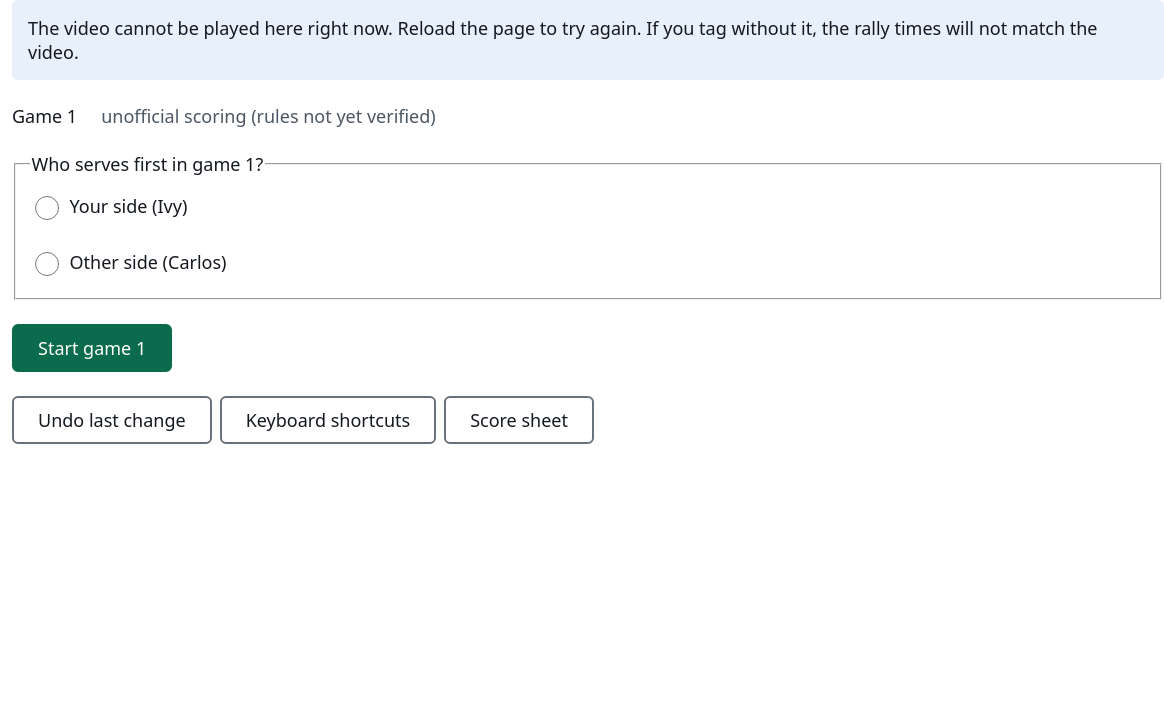
Test: BE-RV1-FE-01 (a): rules_unavailable on T-02 › "Start game 1" says scoring is not available yet and asks for no retry
Click the radio button labelled "Your side (Ivy)" at (46, 208), box [34, 196, 58, 220]
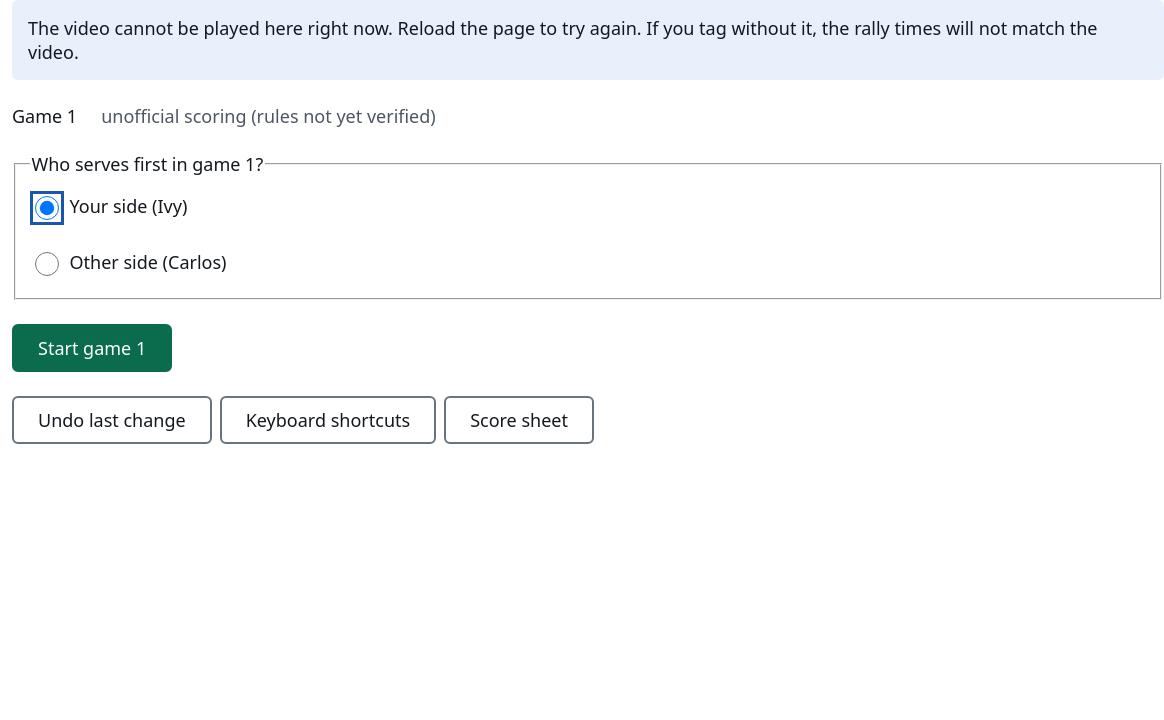
Click the button "Start game 1" at (92, 348), box [12, 324, 172, 372]
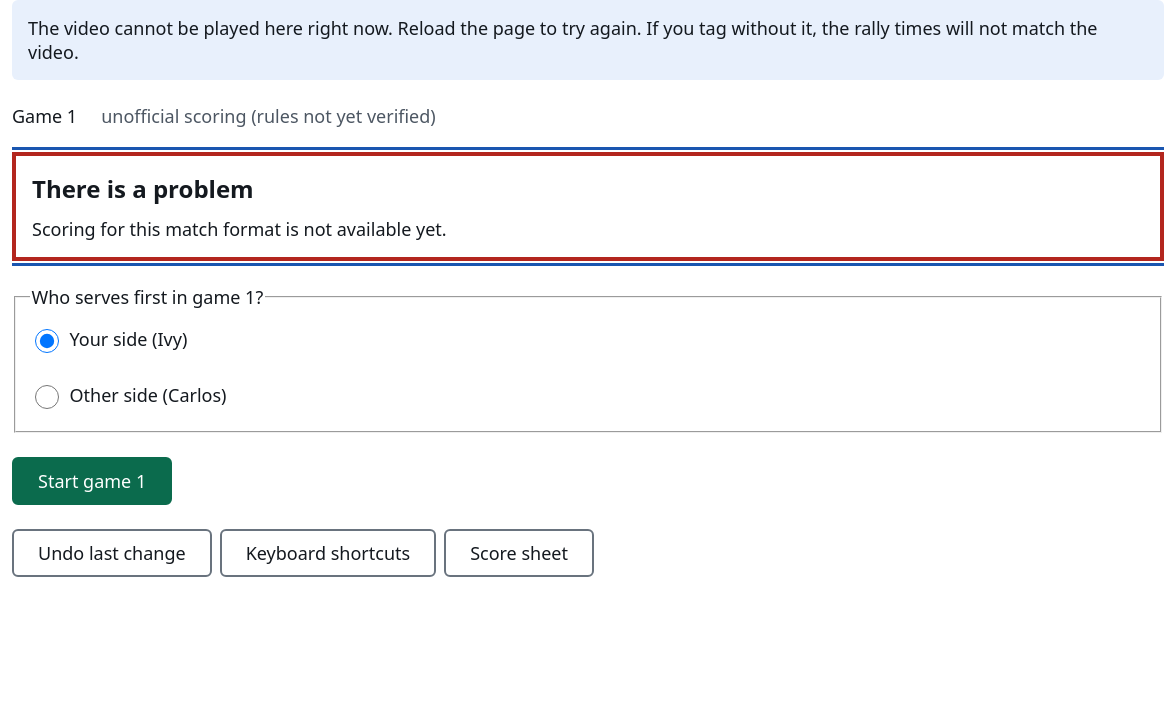
Check: the message does not show "try again", box [12, 152, 1163, 261]
Check: the message shows "Scoring for this match format is not available yet.", box [32, 217, 447, 241]
